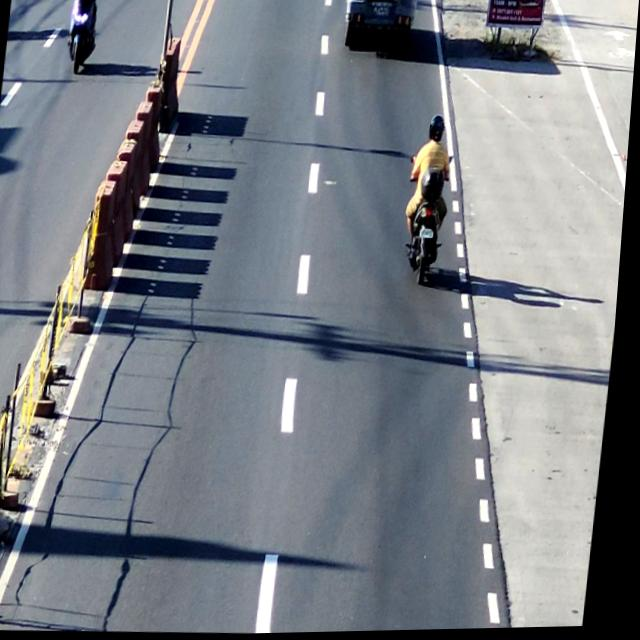Jeep: (338, 0, 417, 50)
Motorcycle: (402, 116, 461, 294)
